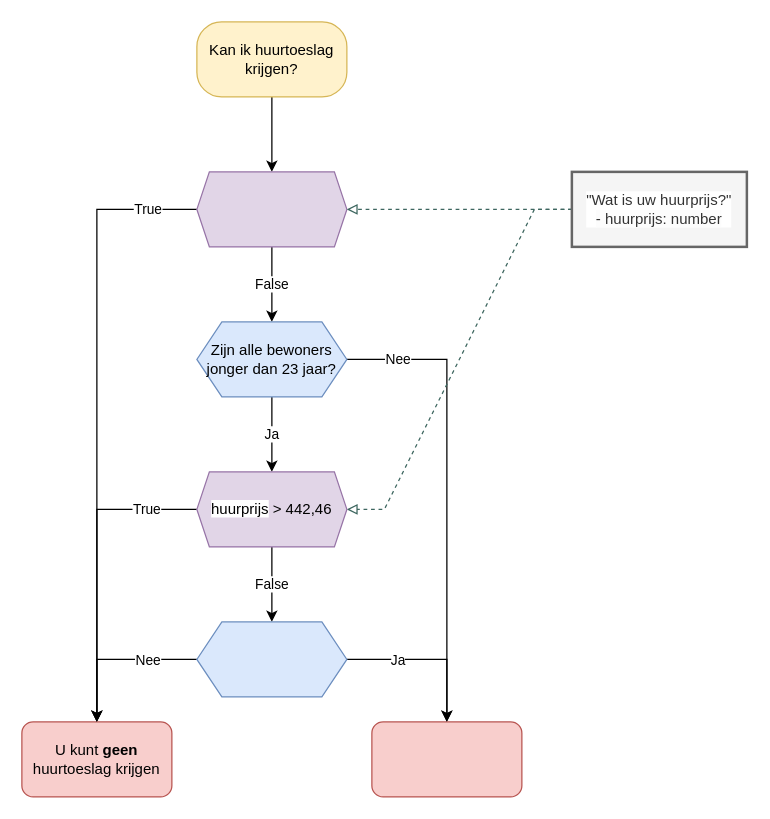
The diagram is 770 pixels wide and 819 high, and some of its shapes have lost their labels. The box of each missing label's shape, as (x1, y1, x2, y2) in pixels:
Heeft u een kind dat bij u woont?: (196, 621, 347, 697)
huurprijs > 763,47: (196, 171, 347, 247)
U kunt wel huurtoeslag krijgen: (371, 721, 522, 797)
